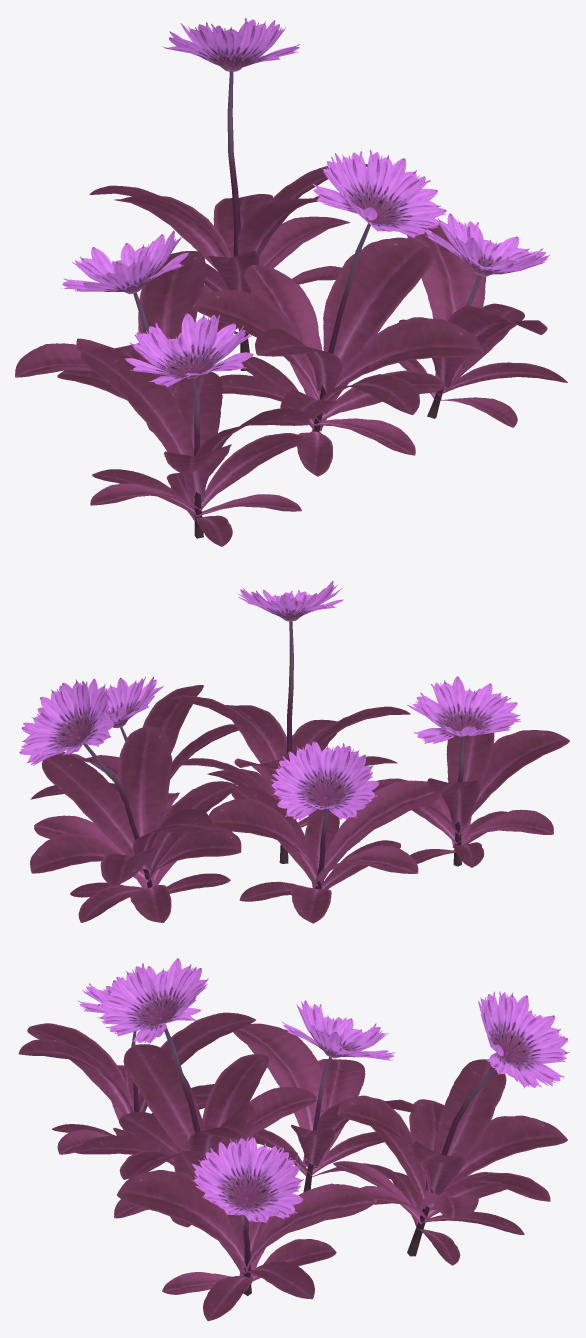
3 renders of one model, top to bottom at view 1: azimuth 30°, elevation 25°; view 2: azimuth 150°, elevation 25°; view 3: azimuth 270°, elevation 25°, orthographic. The views are drawn at different scales.
Visible parts, largest first — view 1: SM_GF_Gazania_03_LOD0; view 2: SM_GF_Gazania_03_LOD0; view 3: SM_GF_Gazania_03_LOD0.
Part boxes in pixels (left/top/right/bottom): SM_GF_Gazania_03_LOD0: left=15, top=17, right=567, bottom=546; SM_GF_Gazania_03_LOD0: left=19, top=581, right=569, bottom=923; SM_GF_Gazania_03_LOD0: left=18, top=958, right=569, bottom=1321.
Size of the model in its own units: 0.5046 by 0.289 by 0.5251.
Materials: 1 (1 with a texture image).
